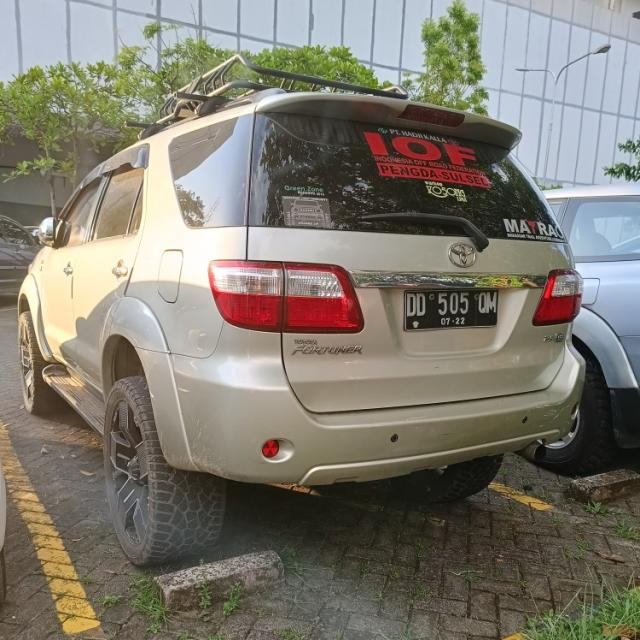plates: (404, 279, 498, 325)
